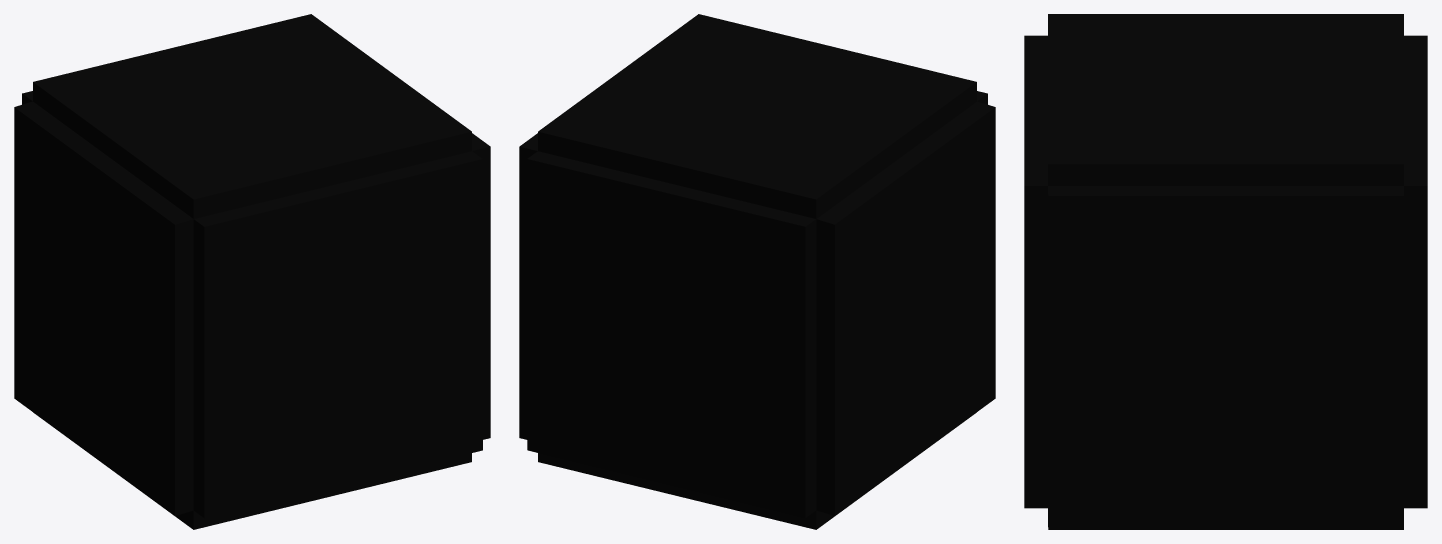
File: block_placed.gltf
3 renders of one model, left to right at view 1: azimuth 30°, elevation 25°; view 2: azimuth 150°, elevation 25°; view 3: azimuth 270°, elevation 25°, orthographic. The views are drawn at different scales.
Parts seen in each view (by area): view 1: Cube.004, Cube.002, Cube.005, Cube.003, Cube.001; view 2: Cube, Cube.002, Cube.005, Cube.003, Cube.001; view 3: Cube.001, Cube.005, Cube, Cube.004, Cube.003.
Boxes of the visible parts, <box> form: Cube.004: <box>193,151,482,518</box>; Cube.002: <box>14,101,193,515</box>; Cube.005: <box>33,14,471,218</box>; Cube.003: <box>33,412,471,529</box>; Cube.001: <box>472,133,490,439</box>; Cube: <box>527,151,816,518</box>; Cube.002: <box>816,101,995,515</box>; Cube.005: <box>538,14,976,218</box>; Cube.003: <box>538,412,976,529</box>; Cube.001: <box>519,133,537,439</box>; Cube.001: <box>1048,186,1403,518</box>; Cube.005: <box>1048,14,1403,185</box>; Cube: <box>1404,35,1427,508</box>; Cube.004: <box>1024,35,1047,508</box>; Cube.003: <box>1048,517,1403,529</box>.
Size of the model in its own units: 2.27 by 2.27 by 2.27.
1 material, 1 textured.
